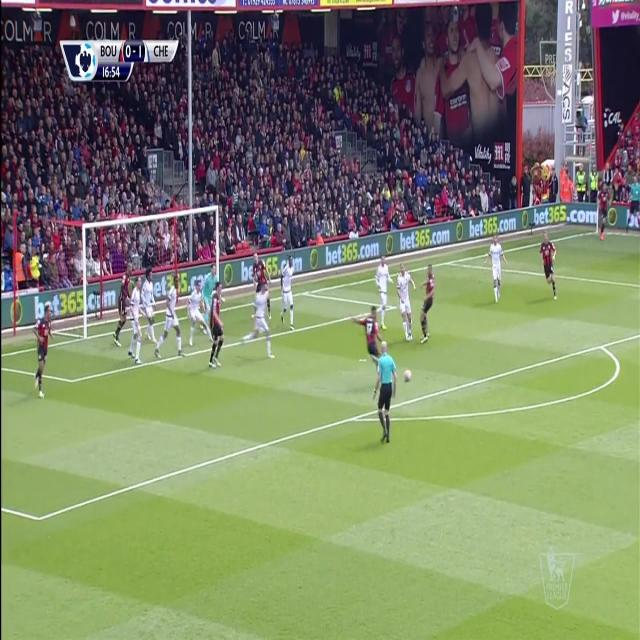Ball: (402, 364, 414, 384)
Goalkeeper: (200, 263, 220, 315)
Player: (240, 280, 276, 362), (152, 272, 185, 360), (482, 234, 512, 306), (32, 302, 54, 398), (111, 260, 133, 344), (185, 280, 210, 350), (352, 306, 384, 360), (418, 262, 438, 345), (126, 275, 144, 367), (207, 284, 225, 374), (537, 232, 560, 301), (397, 265, 416, 343), (375, 254, 393, 334), (280, 257, 297, 335), (142, 268, 157, 347), (598, 180, 612, 240), (251, 251, 269, 288)
Referee: (371, 337, 399, 445), (625, 173, 640, 238)
